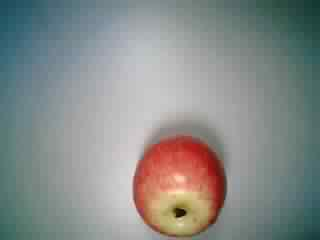apple: (129, 131, 236, 235)
